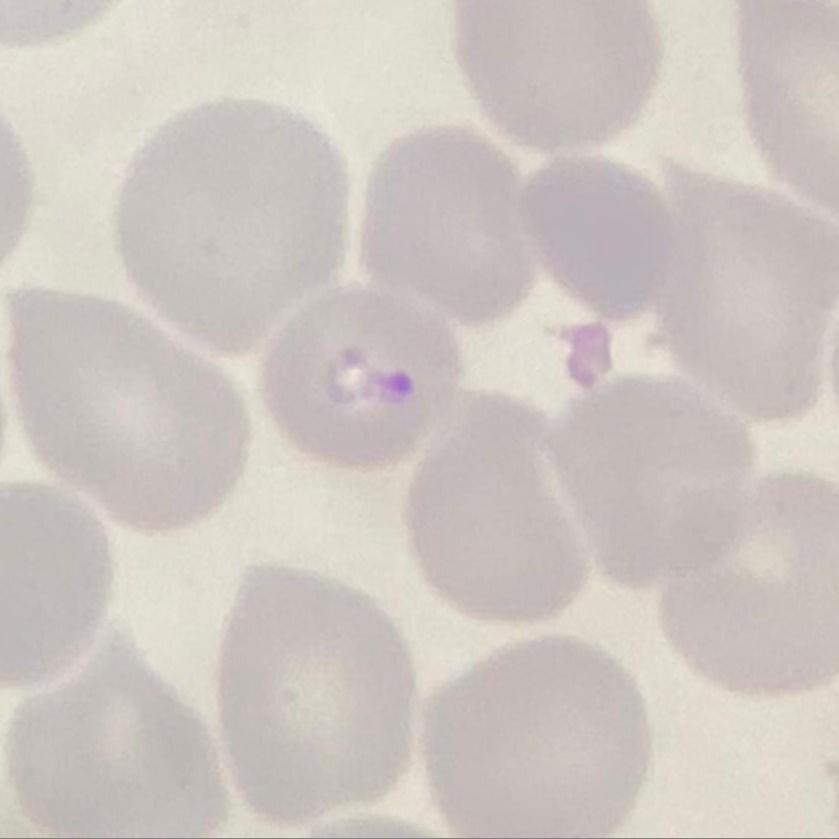Infected: (257, 282, 457, 472)
Uninfected: (118, 94, 354, 360), (12, 292, 255, 535), (213, 567, 418, 827), (0, 629, 226, 839), (420, 634, 650, 839), (653, 167, 839, 412), (558, 375, 757, 589), (658, 472, 839, 697), (410, 399, 590, 623), (365, 125, 542, 323), (453, 0, 659, 158), (525, 152, 677, 318)
